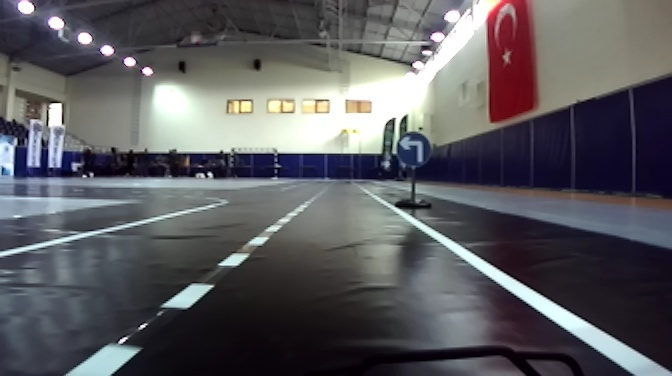sola_donus: (391, 130, 433, 163)
